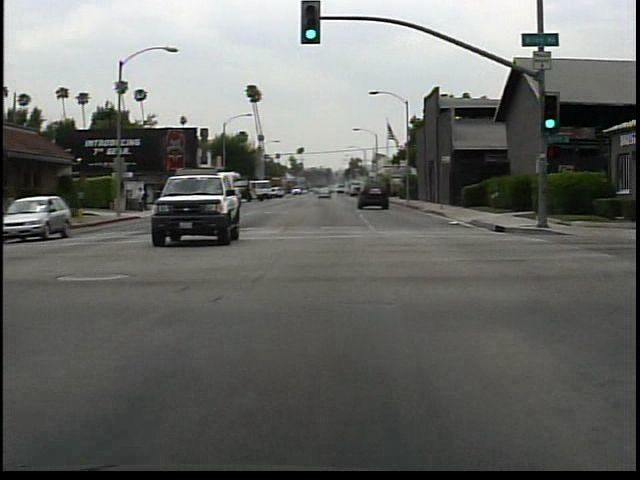person: (137, 183, 152, 214)
